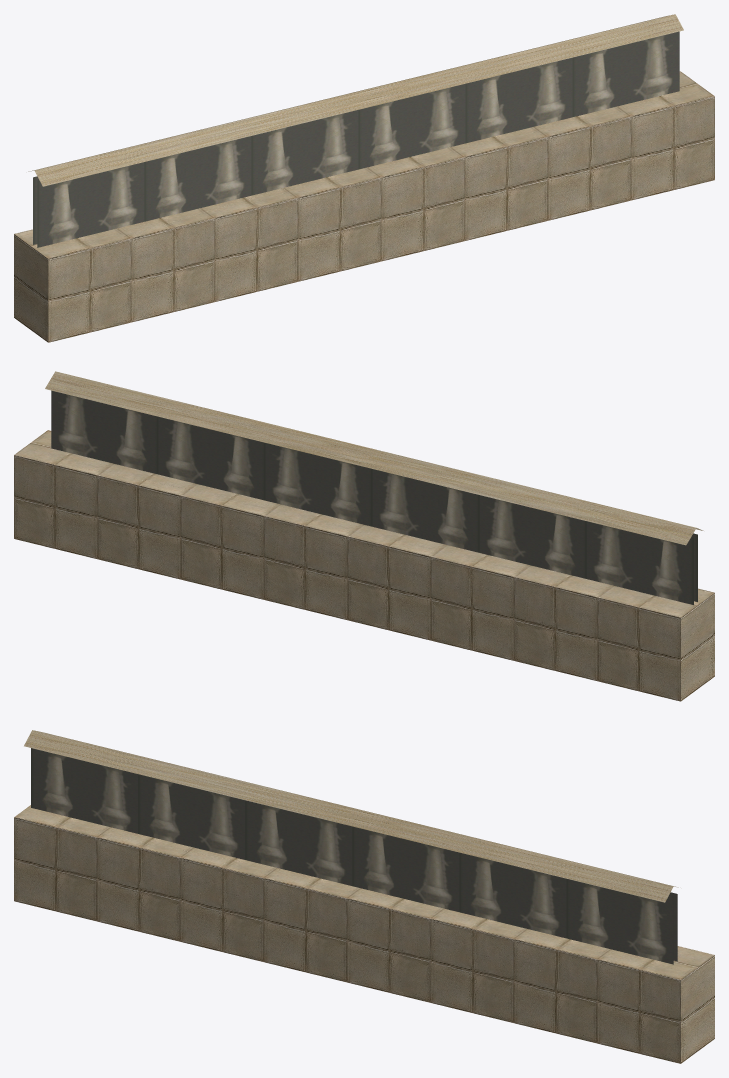
Rendered from thm_nboo_imprv_pillar_wall_large_s01_l2.fbx.
3 renders of one model, top to bottom at view 1: azimuth 30°, elevation 25°; view 2: azimuth 150°, elevation 25°; view 3: azimuth 330°, elevation 25°, orthographic.
Visible parts, largest first — view 1: mesh_node; view 2: mesh_node; view 3: mesh_node.
Part boxes in pixels (x1,y1,x2,y2): mesh_node: (14, 14, 714, 342); mesh_node: (14, 371, 714, 701); mesh_node: (14, 730, 714, 1063).
Size of the model in its own units: 8.3 by 1.9 by 0.7387.
